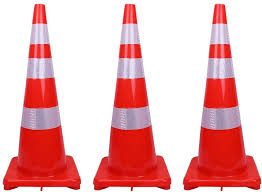cones: (91, 5, 176, 192), (3, 5, 84, 192), (184, 5, 262, 192)
